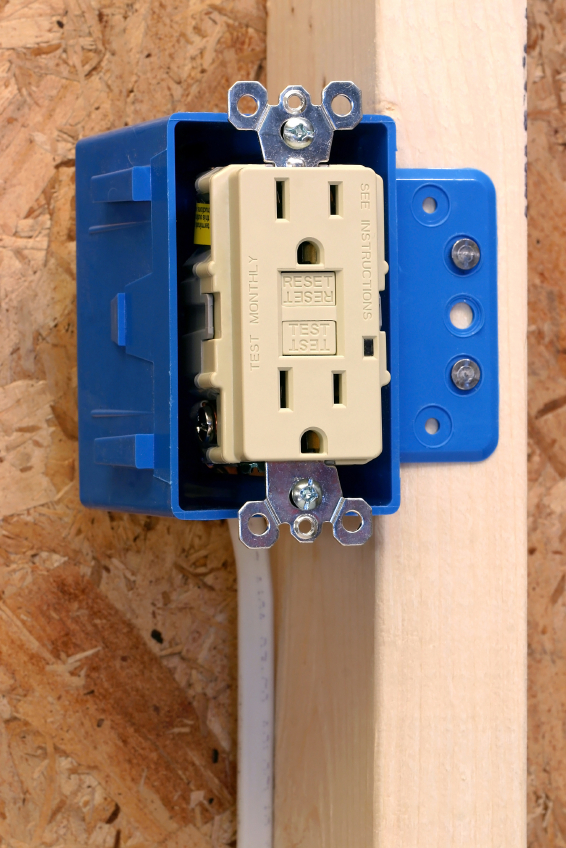outlet: (271, 360, 355, 459), (268, 170, 350, 268)
